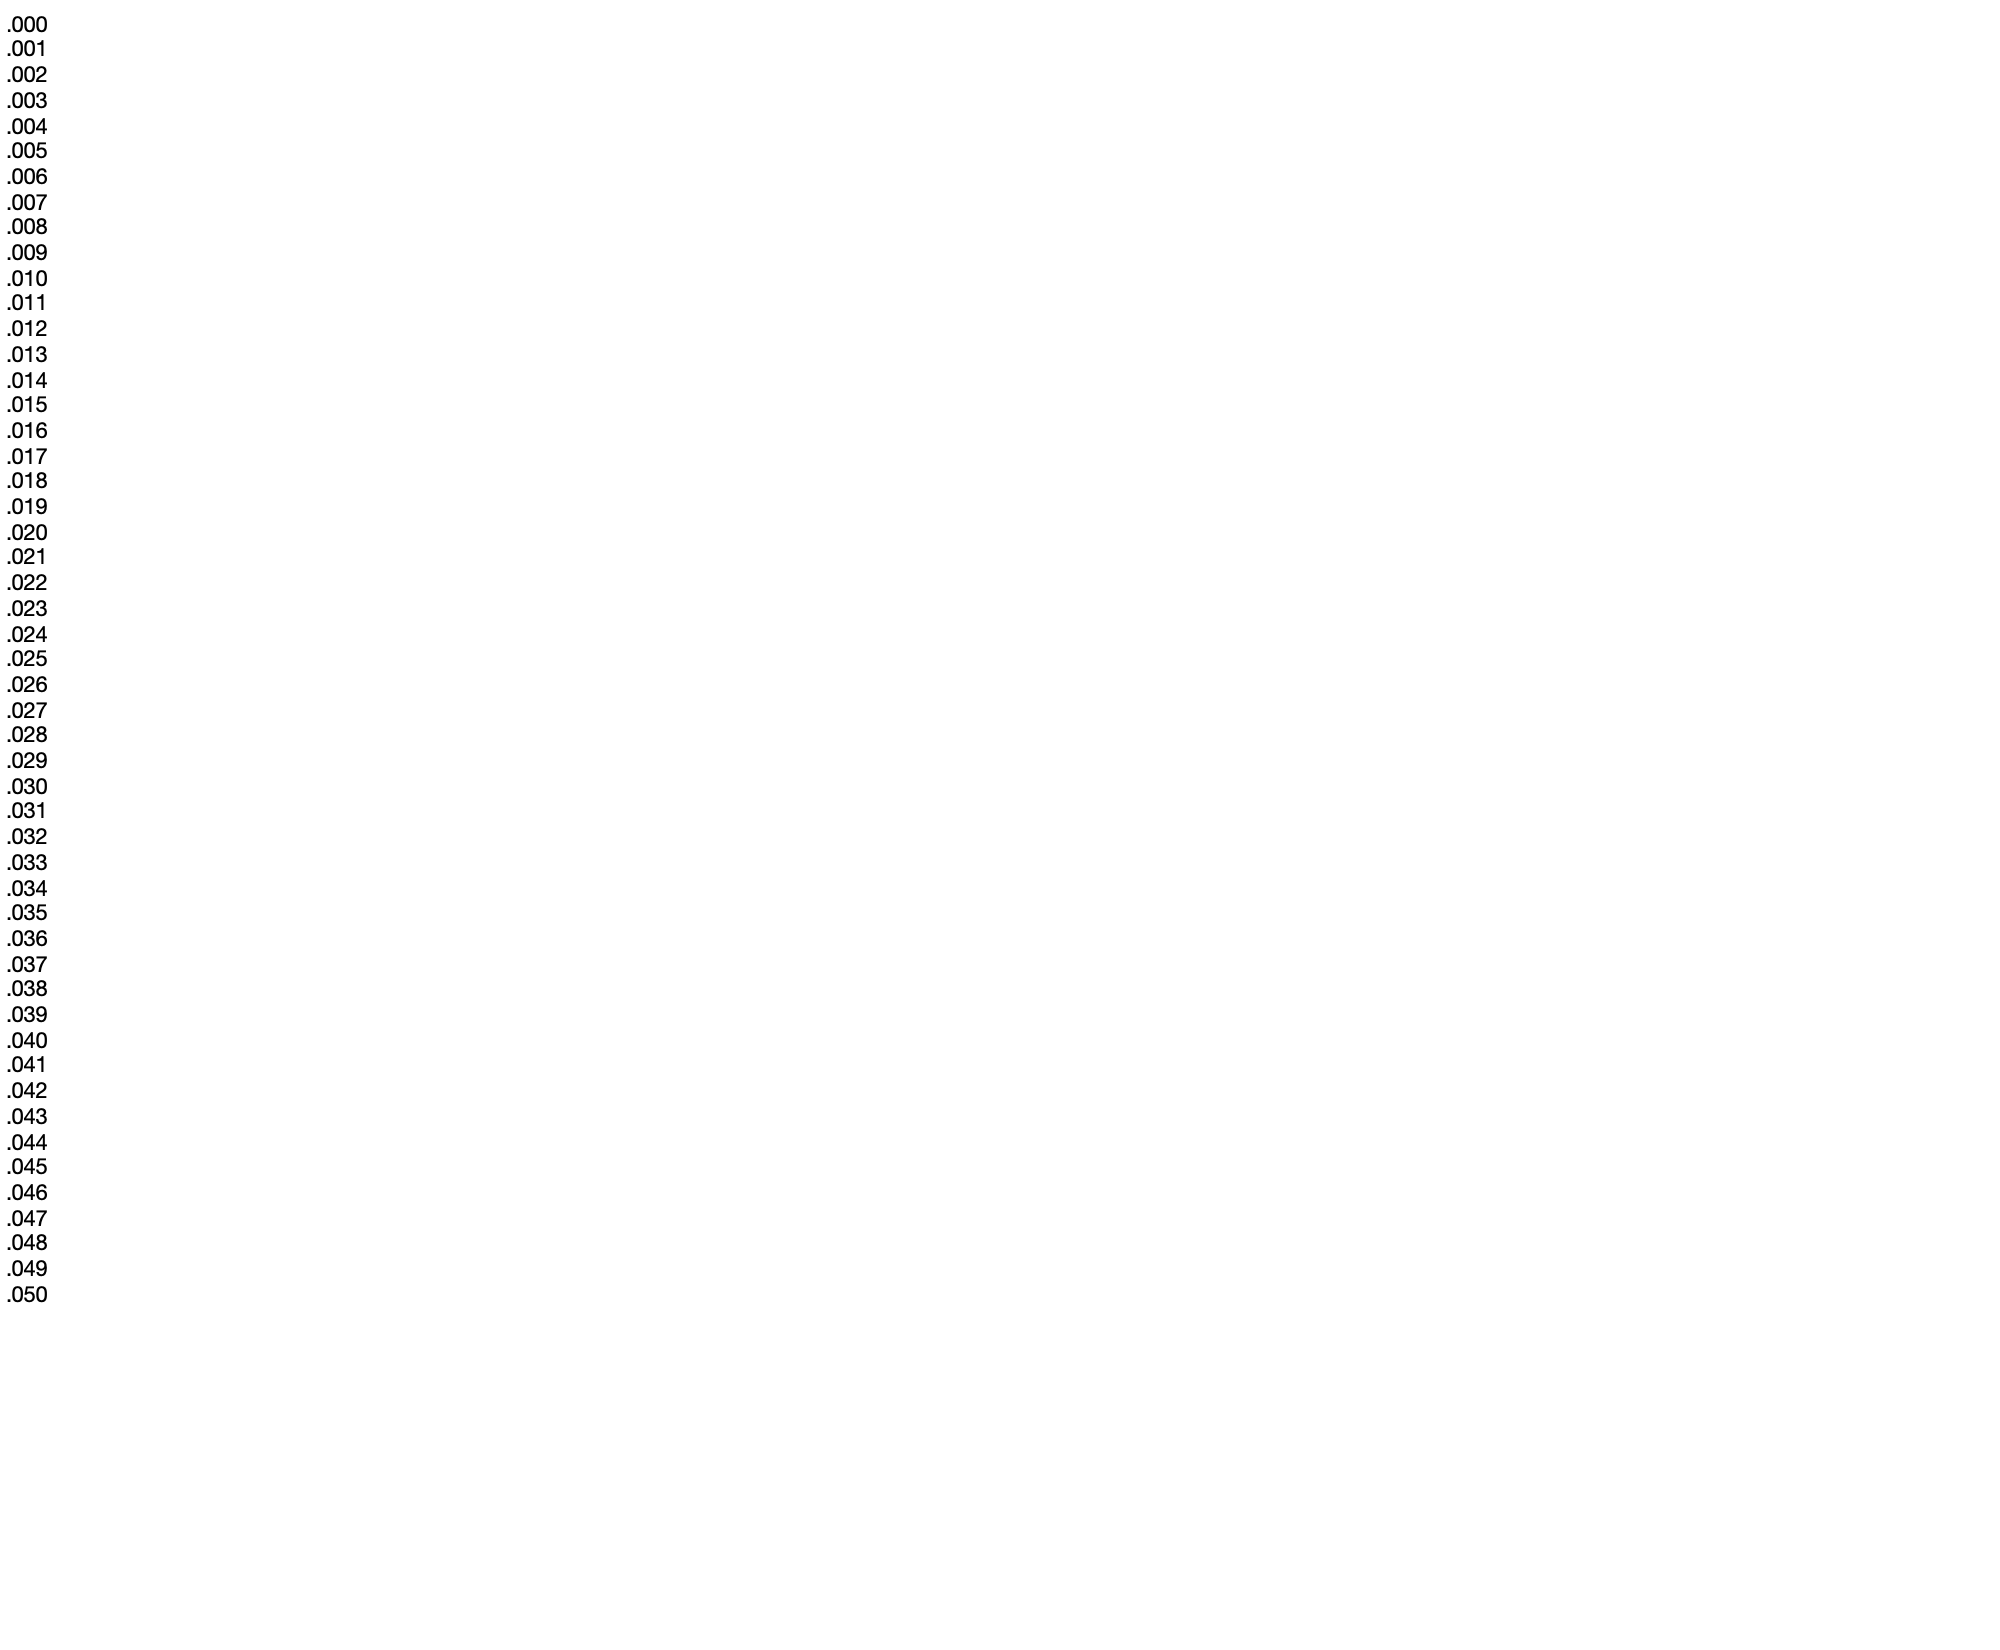.020: (2, 520, 51, 548)
.026: (2, 671, 51, 696)
.032: (2, 824, 50, 847)
.035: (2, 901, 50, 924)
.037: (2, 952, 48, 975)
.038: (2, 975, 50, 1000)
000: (3, 12, 50, 37)
001: (3, 37, 48, 60)
002: (3, 60, 51, 88)
003: (3, 88, 51, 115)
004: (3, 111, 50, 138)
005: (3, 136, 50, 161)
006: (3, 165, 50, 188)
007: (3, 188, 48, 214)
008: (3, 213, 51, 239)
009: (3, 239, 50, 264)
010: (3, 266, 51, 292)
011: (3, 287, 48, 314)
012: (3, 314, 51, 342)
013: (2, 341, 51, 367)
014: (2, 366, 50, 394)
015: (2, 390, 55, 419)
019: (2, 492, 51, 520)
021: (3, 542, 50, 570)
022: (3, 568, 51, 597)
023: (3, 593, 51, 621)
024: (3, 620, 50, 646)
025: (3, 645, 51, 671)
027: (3, 698, 48, 723)
028: (3, 719, 51, 748)
029: (3, 746, 51, 774)
030: (3, 774, 50, 798)
031: (2, 798, 48, 823)
033: (3, 851, 50, 874)
034: (3, 876, 50, 901)
036: (3, 926, 50, 950)
039: (3, 1002, 50, 1025)
040: (3, 1029, 50, 1052)
041: (2, 1052, 48, 1077)
042: (2, 1078, 50, 1102)
043: (2, 1103, 50, 1128)
044: (3, 1128, 50, 1153)
045: (2, 1152, 50, 1178)
046: (2, 1180, 51, 1205)
047: (2, 1206, 50, 1230)
048: (2, 1230, 50, 1255)
049: (2, 1256, 50, 1279)
050: (2, 1279, 50, 1306)
